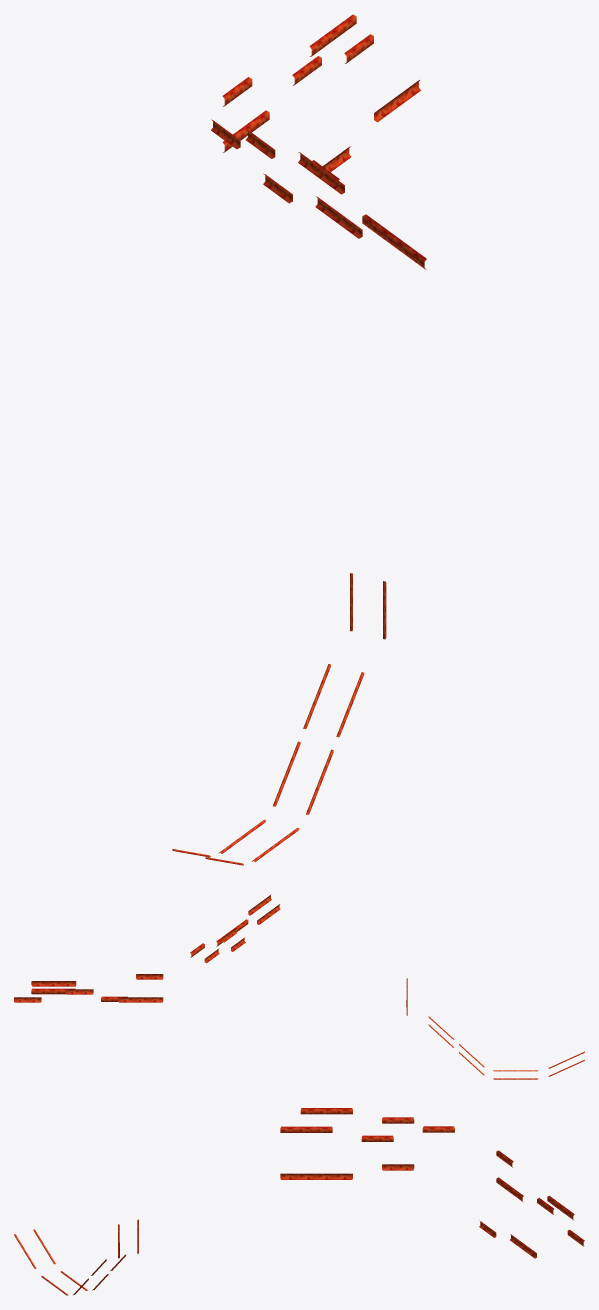
3 views of the same model, one above another, from view 1: azimuth 30°, elevation 25°; view 2: azimuth 150°, elevation 25°; view 3: azimuth 270°, elevation 25° (orthographic). The views are drawn at different scales.
Visible parts, largest first — view 1: S04_ON_21; view 2: S04_ON_21; view 3: S04_ON_21.
Boxes of the visible parts, x1,y1,x2,y2 form: S04_ON_21: (172, 14, 426, 865); S04_ON_21: (14, 894, 584, 1079); S04_ON_21: (14, 1108, 584, 1295).
Size of the model in its own units: 224505 by 139397 by 280645.
